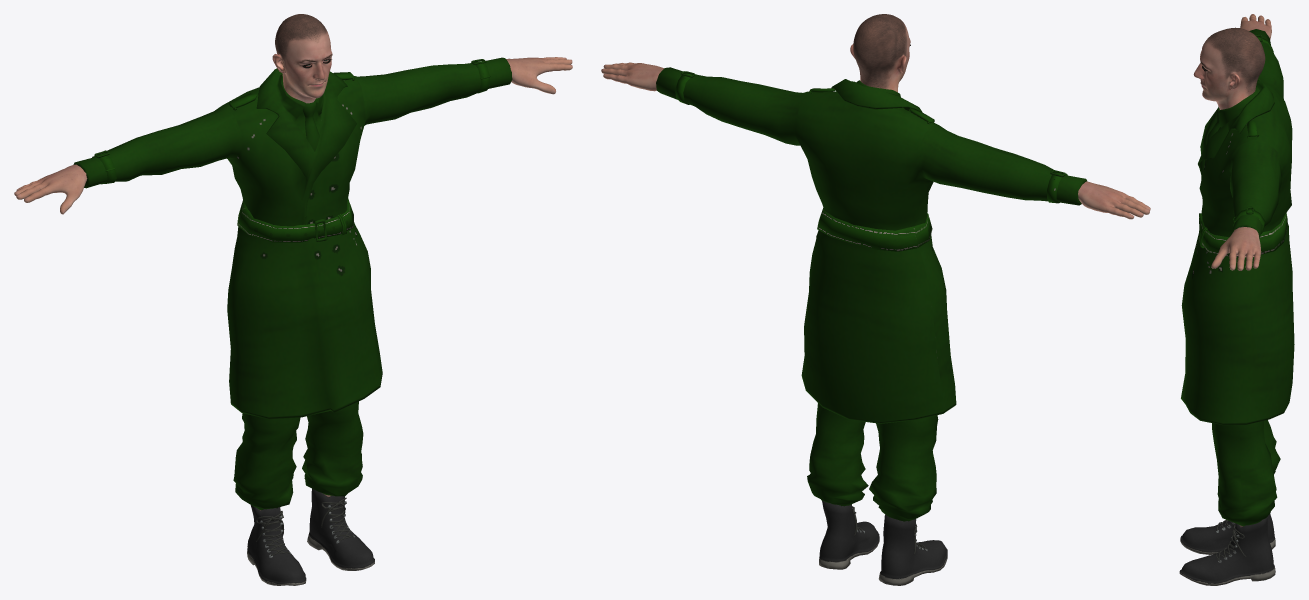
Rendered from Inimigo3.obj.
3 views of the same model, side by side, from view 1: azimuth 30°, elevation 25°; view 2: azimuth 150°, elevation 25°; view 3: azimuth 270°, elevation 25° (orthographic). The views are drawn at different scales.
Visible parts, largest first — view 1: Tops, Bottoms, Body, Shoes; view 2: Tops, Bottoms, Body, Shoes; view 3: Tops, Body, Bottoms, Shoes.
Boxes of the visible parts, left/top/right/bottom form: Tops: left=73, top=57, right=512, bottom=419; Bottoms: left=233, top=401, right=363, bottom=510; Body: left=14, top=14, right=572, bottom=510; Shoes: left=247, top=488, right=374, bottom=585; Tops: left=656, top=67, right=1086, bottom=423; Bottoms: left=807, top=403, right=938, bottom=521; Body: left=601, top=14, right=1150, bottom=219; Shoes: left=819, top=500, right=947, bottom=585; Tops: left=1181, top=29, right=1294, bottom=425; Body: left=1193, top=14, right=1271, bottom=527; Bottoms: left=1212, top=420, right=1280, bottom=526; Shoes: left=1179, top=513, right=1275, bottom=585.
Size of the model in its own units: 193 by 184 by 36.
